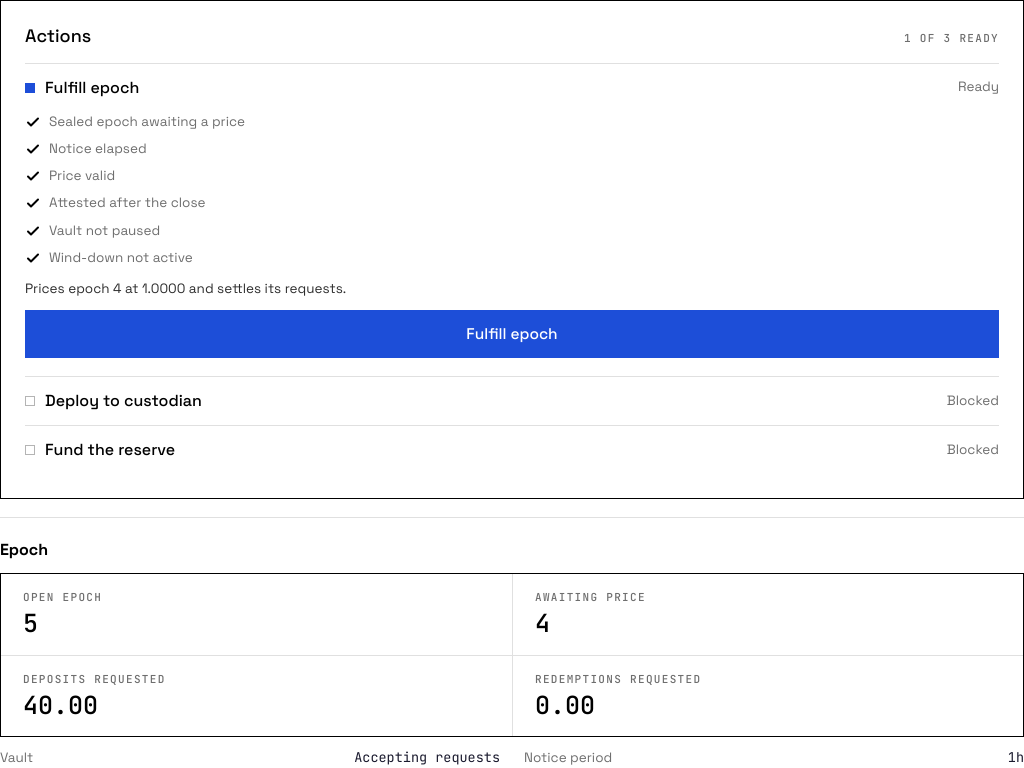
Test: CycleSection › judges the funding against the connected wallet's balance
Click the button "Fund the reserve Blocked".
click(110, 450)  # box [25,426,999,474]
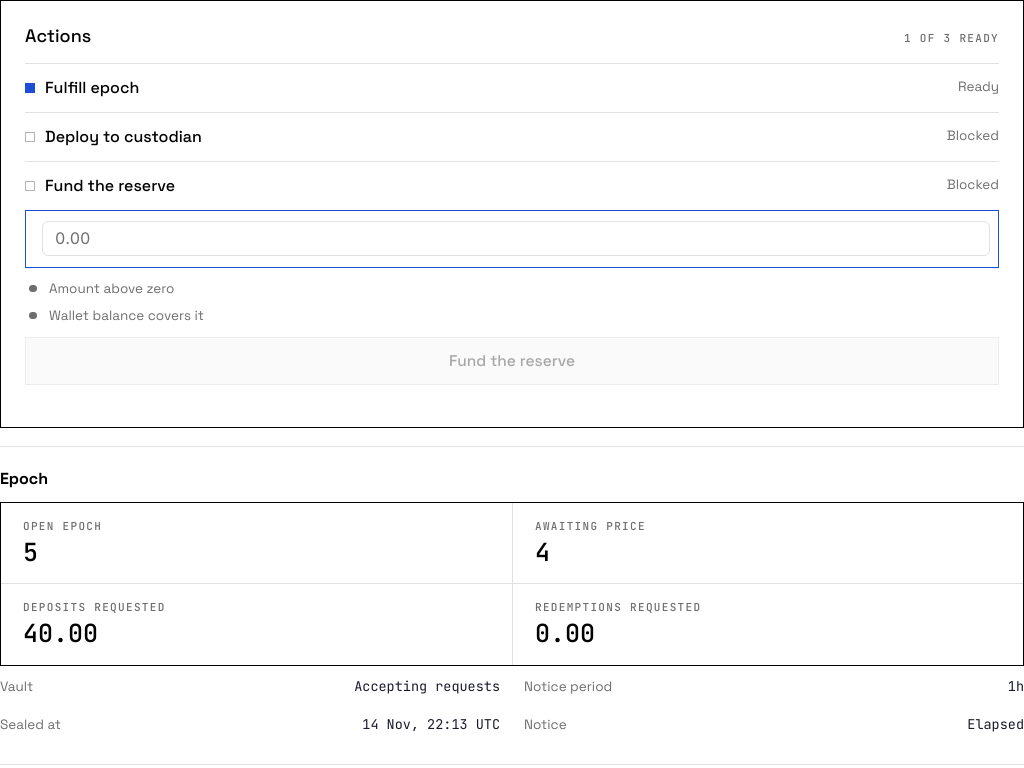
Type "1000.0000001" into the field named "Amount to fund".
click(516, 238); type("1000.0000001")  # box [42,221,990,256]
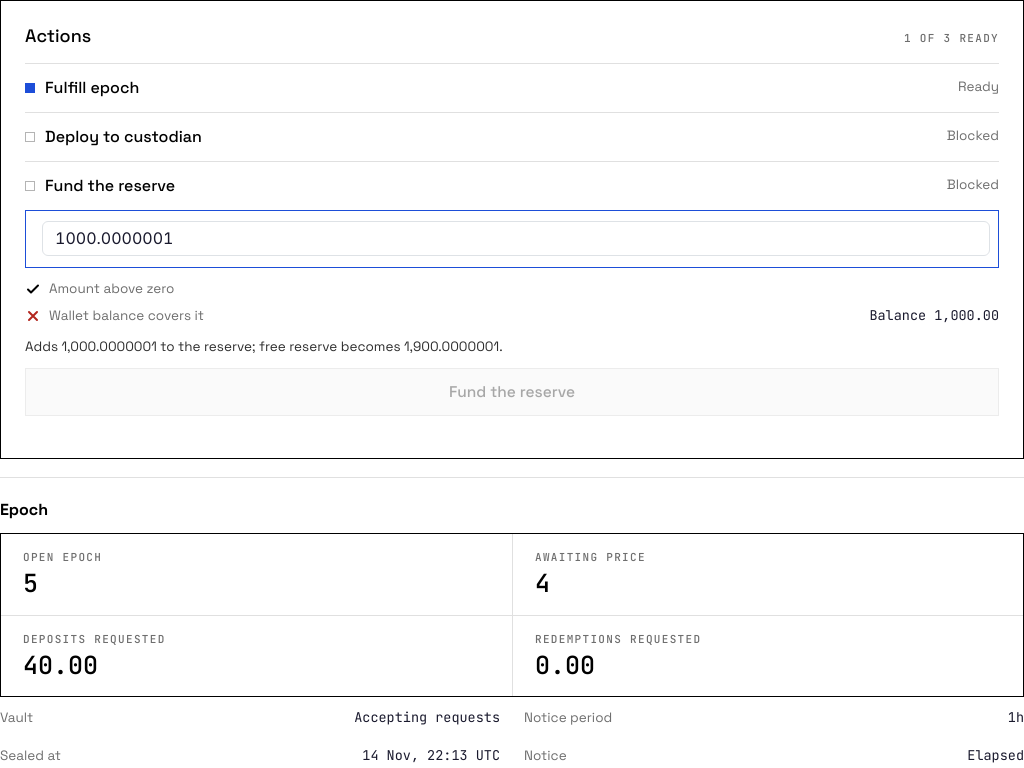
Now the button "Fund the reserve" is disabled, box [25,368,999,416]
Now the text "Balance 1,000.00" is shown, box [869,306,999,325]
Replace the text in the field named "Amount to fund" with "100" at [516, 238], box [42,221,990,256]
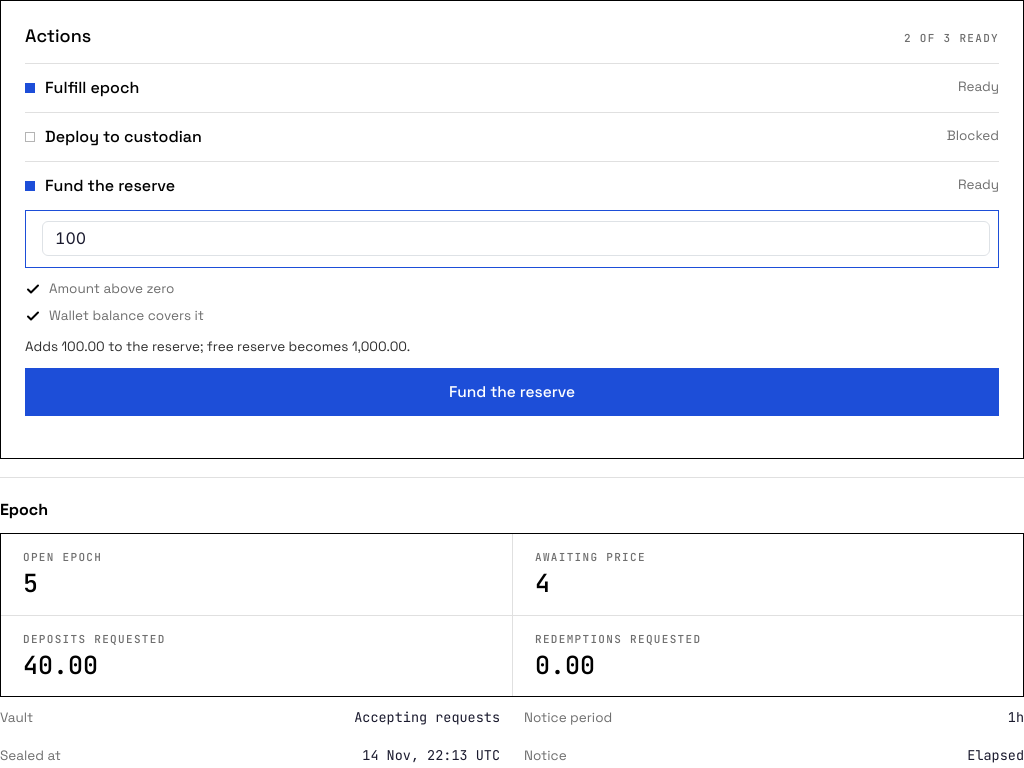
Now the button "Fund the reserve" is enabled, box [25,368,999,416]
Now the text "Adds 100.00 to the reserve; free reserve becomes 1,000.00." is shown, box [25,338,410,355]
